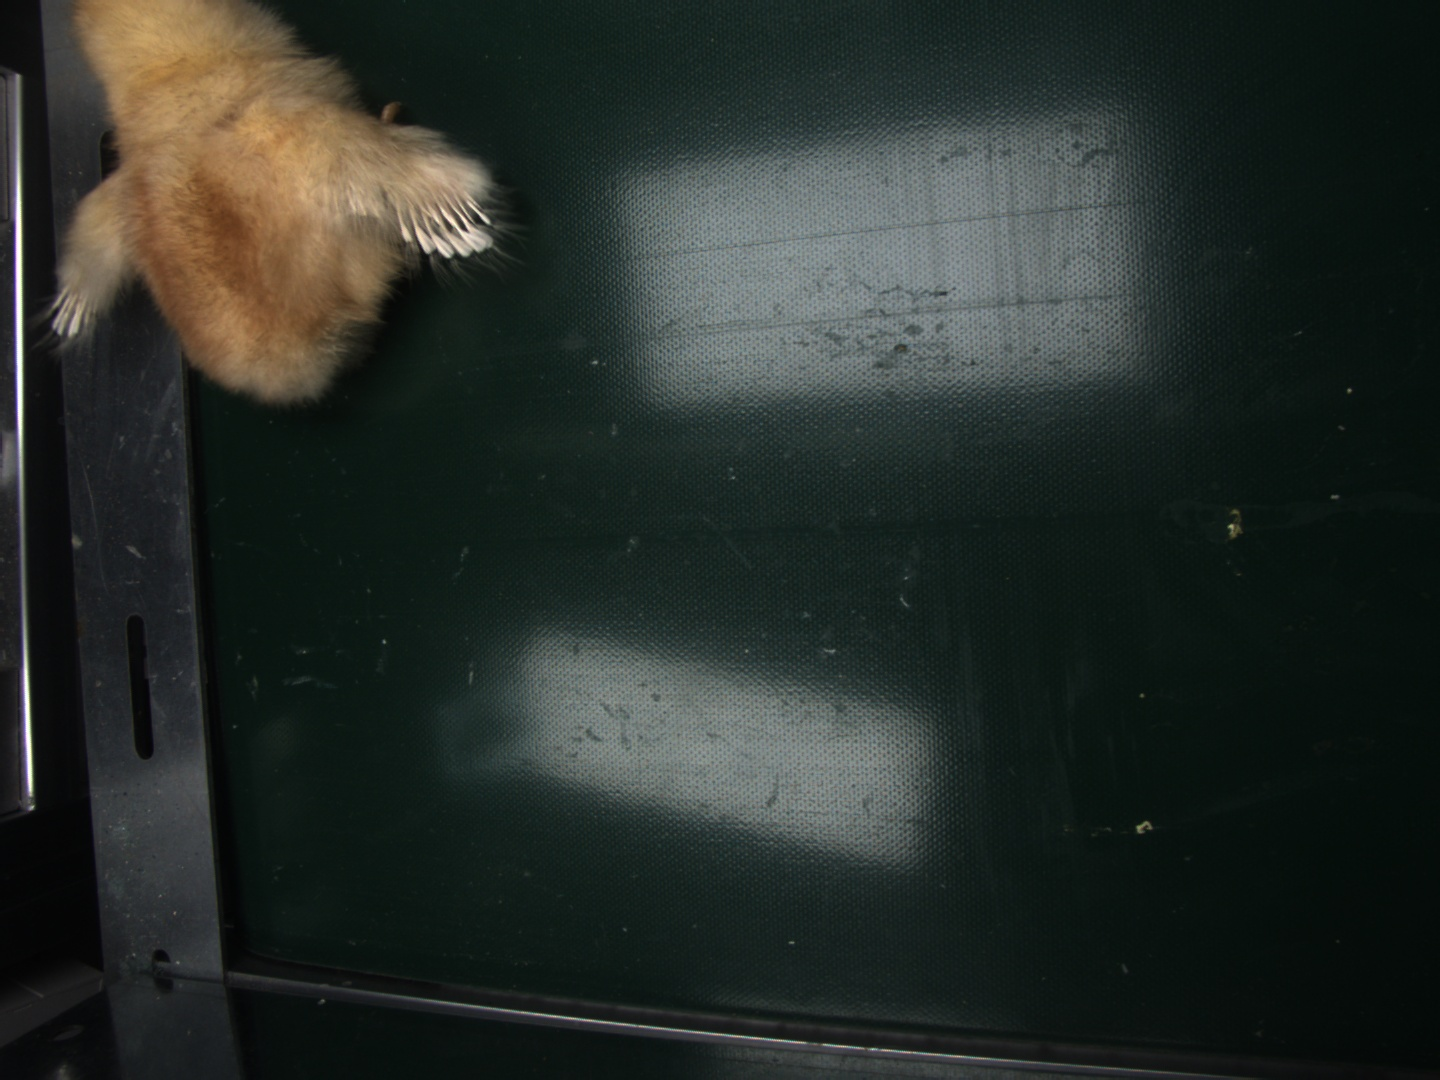female: (399, 188, 495, 255)
